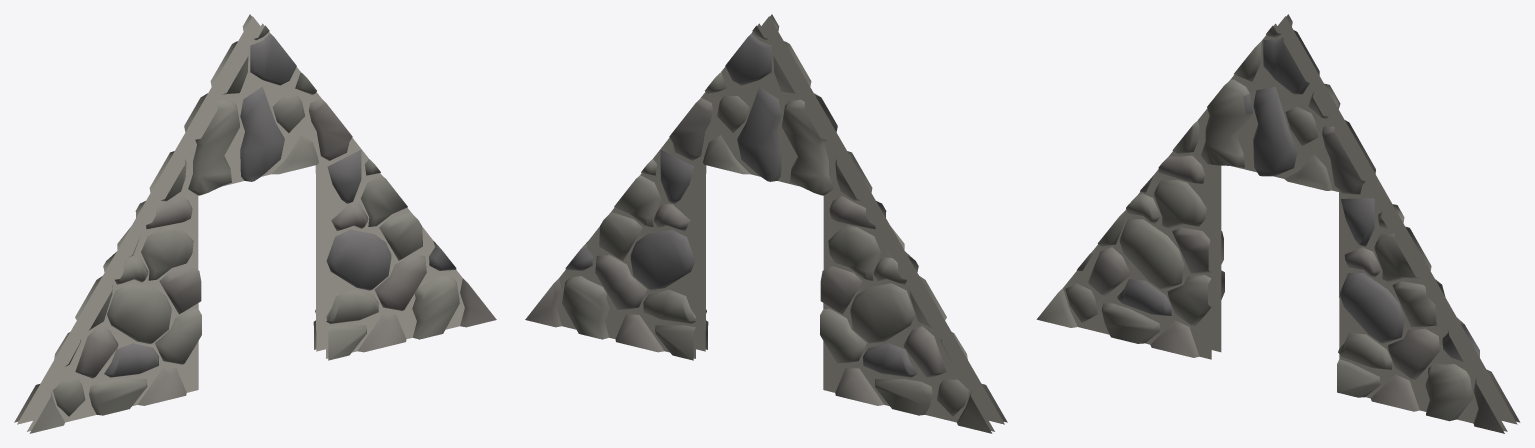
The model's file is rpgpp_ag_roof_end_01_6x5_wall_door_04a.fbx.
3 renders of one model, left to right at view 1: azimuth 30°, elevation 25°; view 2: azimuth 150°, elevation 25°; view 3: azimuth 330°, elevation 25°, orthographic.
Visible parts, largest first — view 1: rpgpp_ag_roof_end_01_6x5_wall_door_04a; view 2: rpgpp_ag_roof_end_01_6x5_wall_door_04a; view 3: rpgpp_ag_roof_end_01_6x5_wall_door_04a.
Part boxes in pixels (box(x1,y1,x2,y2)): rpgpp_ag_roof_end_01_6x5_wall_door_04a: box(14, 14, 496, 433); rpgpp_ag_roof_end_01_6x5_wall_door_04a: box(525, 14, 1007, 433); rpgpp_ag_roof_end_01_6x5_wall_door_04a: box(1036, 14, 1520, 433).
Size of the model in its own units: 6.38 by 4.58 by 0.404.
